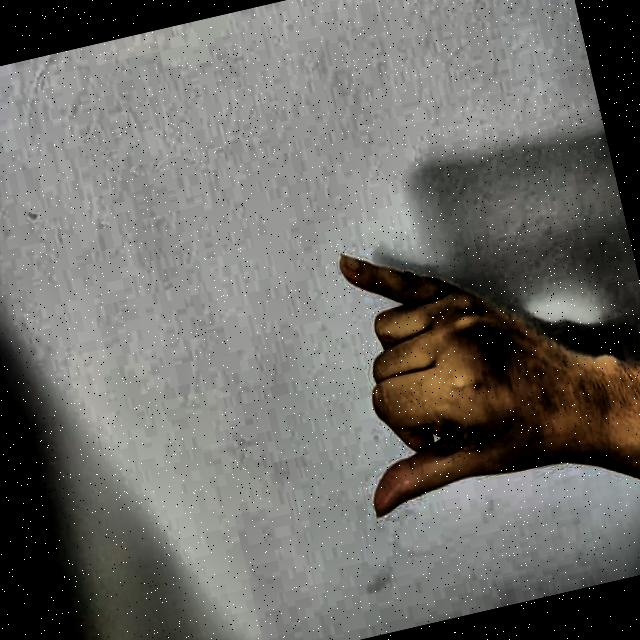Oi: (282, 173, 620, 595)
